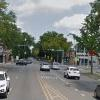Car: (36, 58, 81, 79)
